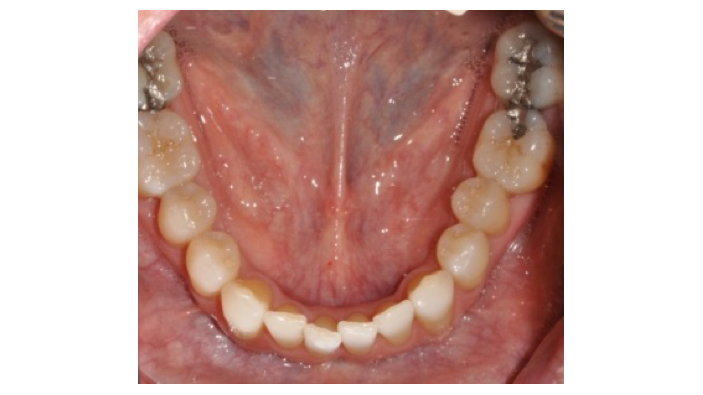LL1BC_healthy: (442, 225, 484, 279)
LL1M_decay: (475, 110, 543, 190)
LL2BC_healthy: (452, 175, 513, 233)
LL2M_decay: (493, 27, 564, 108)
LLCI_healthy: (340, 309, 374, 351)
LLC_healthy: (407, 263, 455, 327)
LLLI_healthy: (375, 301, 413, 346)
LR1BC_healthy: (194, 236, 234, 286)
LR1M_decay: (140, 115, 201, 190)
LR2BC_healthy: (161, 193, 214, 251)
LR2M_decay: (140, 42, 178, 105)
LRCI_healthy: (309, 315, 340, 350)
LRC_healthy: (222, 275, 267, 333)
LRLI_healthy: (267, 301, 309, 348)
